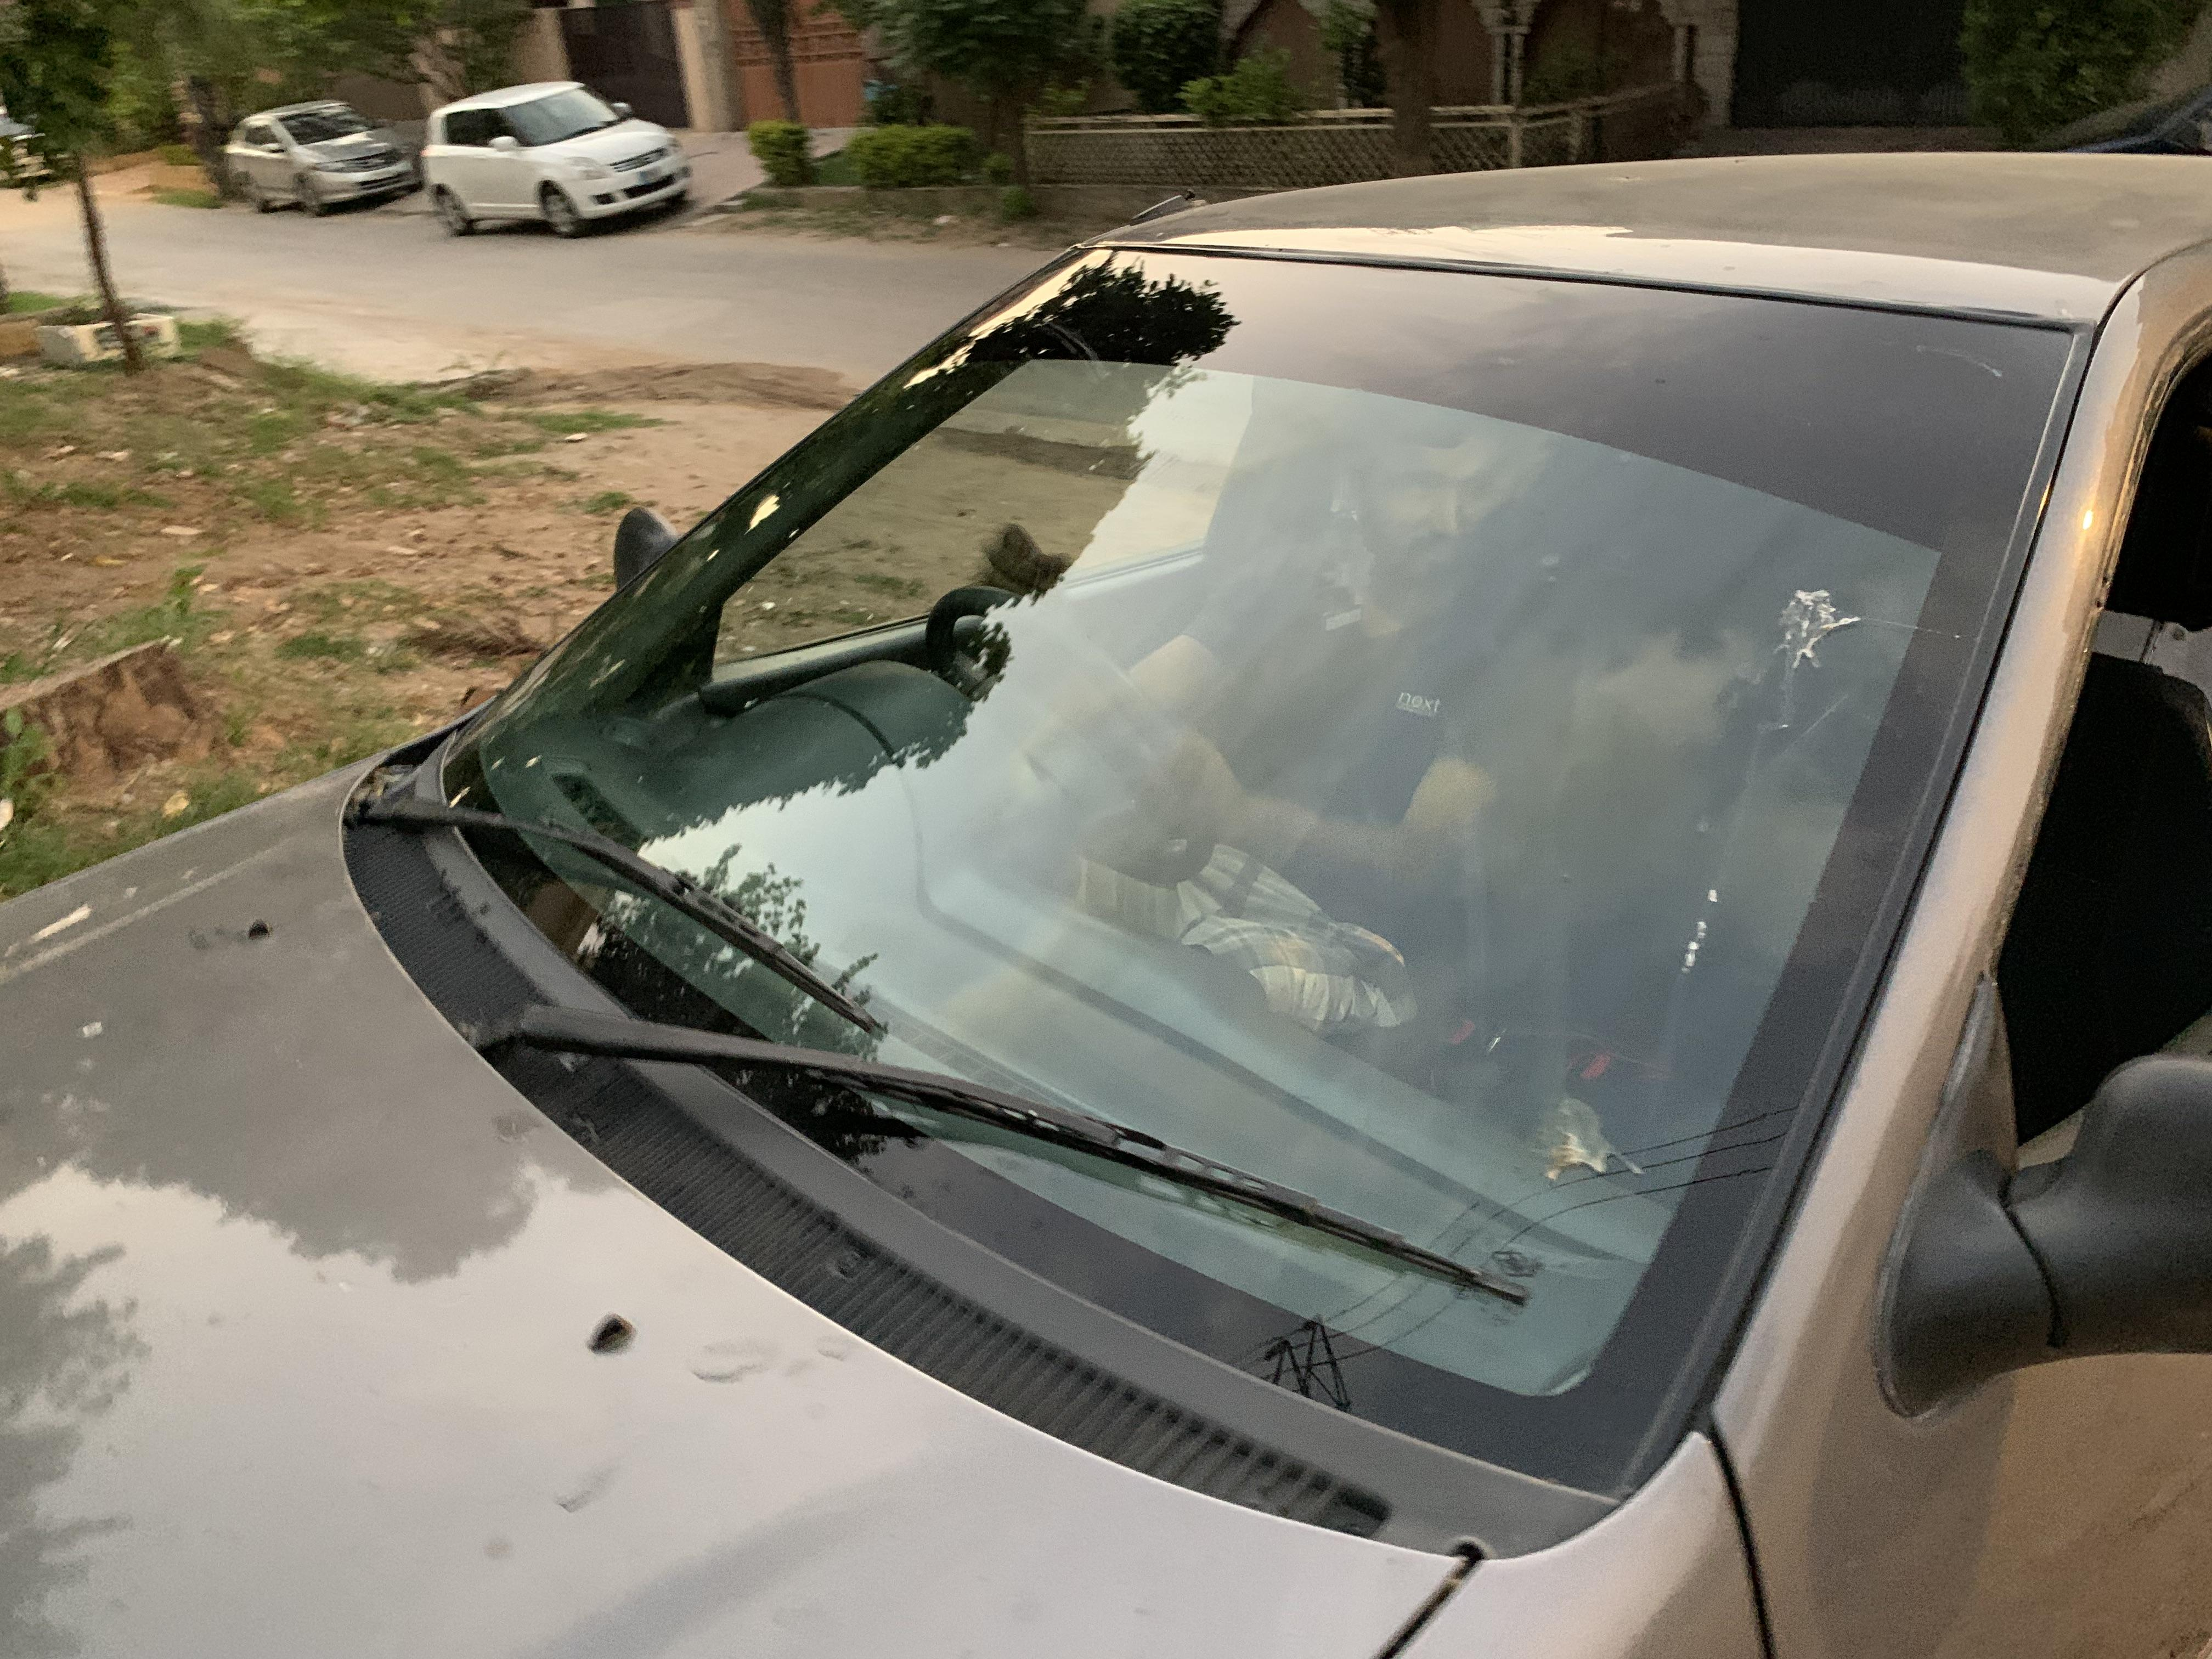windshield: (369, 235, 2141, 1558)
